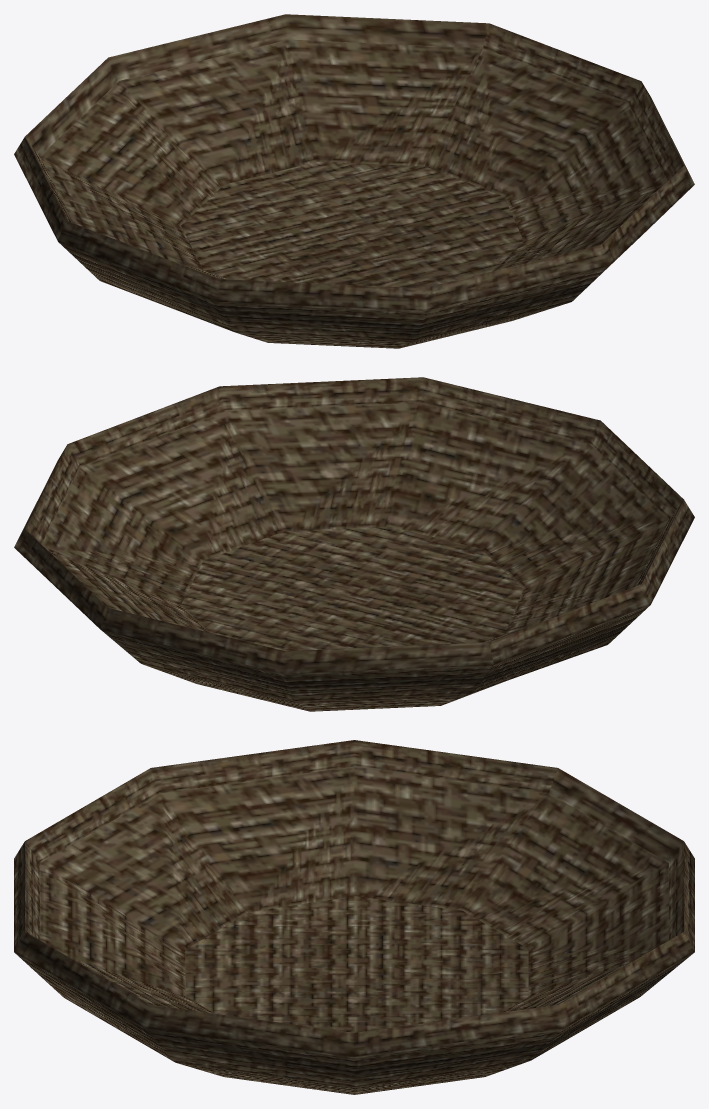
File: edb_con_tato_basket_s03_l0.fbx
The picture shows the model from 3 angles, top to bottom: view 1: azimuth 30°, elevation 25°; view 2: azimuth 150°, elevation 25°; view 3: azimuth 270°, elevation 25°; orthographic projection. The views are drawn at different scales.
Visible parts, largest first — view 1: mesh_node; view 2: mesh_node; view 3: mesh_node.
Part boxes in pixels (x1,y1,x2,y2): mesh_node: (14,14,694,348); mesh_node: (14,377,694,711); mesh_node: (14,740,694,1094).
Size of the model in its own units: 1.36 by 0.2396 by 1.29.
1 material, 1 textured.
